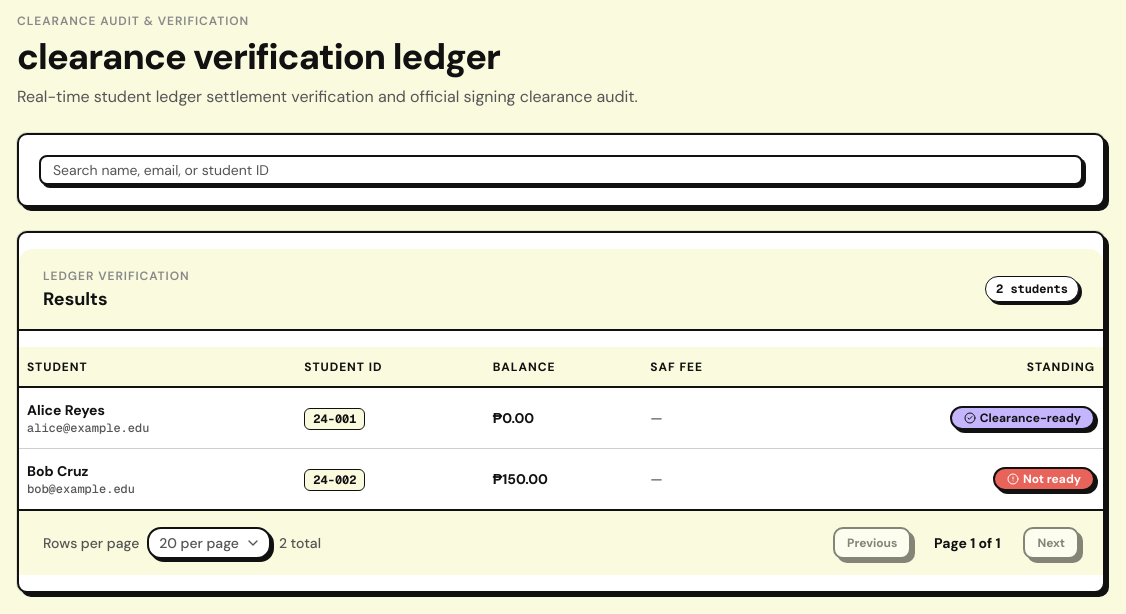
ClearanceView Ledger Verification (Issue #206) › filters students in real-time when typing in search input
Expected: the text "Alice Reyes" is shown, top-left (27, 401), bottom-right (105, 419)
Expected: the text "Bob Cruz" is shown, top-left (27, 462), bottom-right (88, 480)
Type "Alice" into the field labelled "Search name, email, or student ID".
click(561, 170); type("Alice")  # box top-left (39, 155), bottom-right (1083, 185)
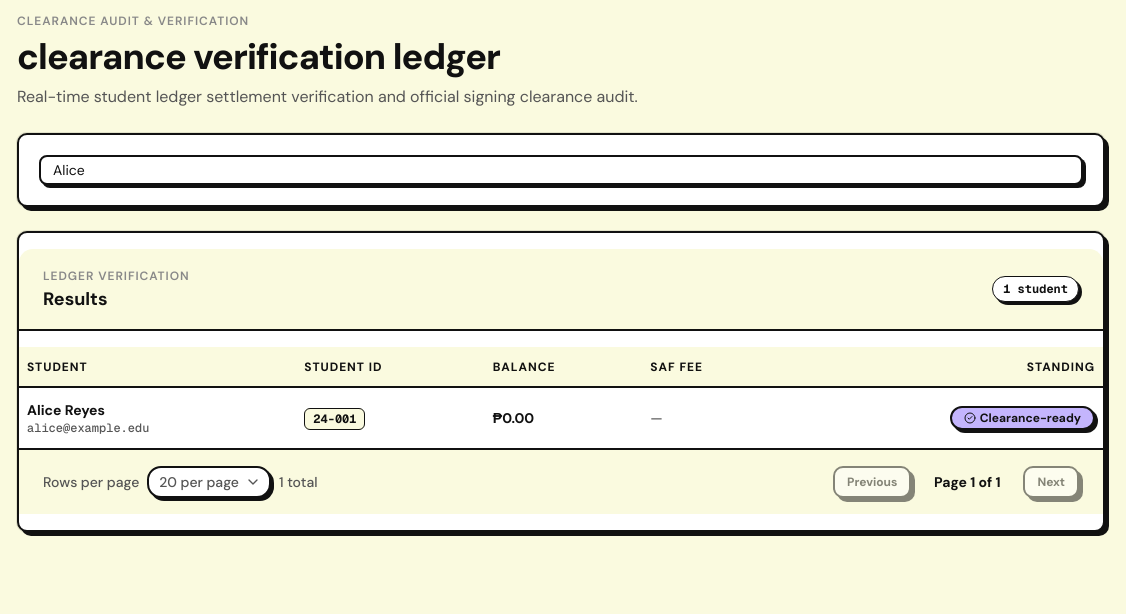
Expected: the text "Alice Reyes" is shown, top-left (27, 401), bottom-right (105, 419)
Result: the text "Bob Cruz" is gone
Replace the text in the field named "Search name, email, or student ID" with "24-002" at (561, 170), box top-left (39, 155), bottom-right (1083, 185)
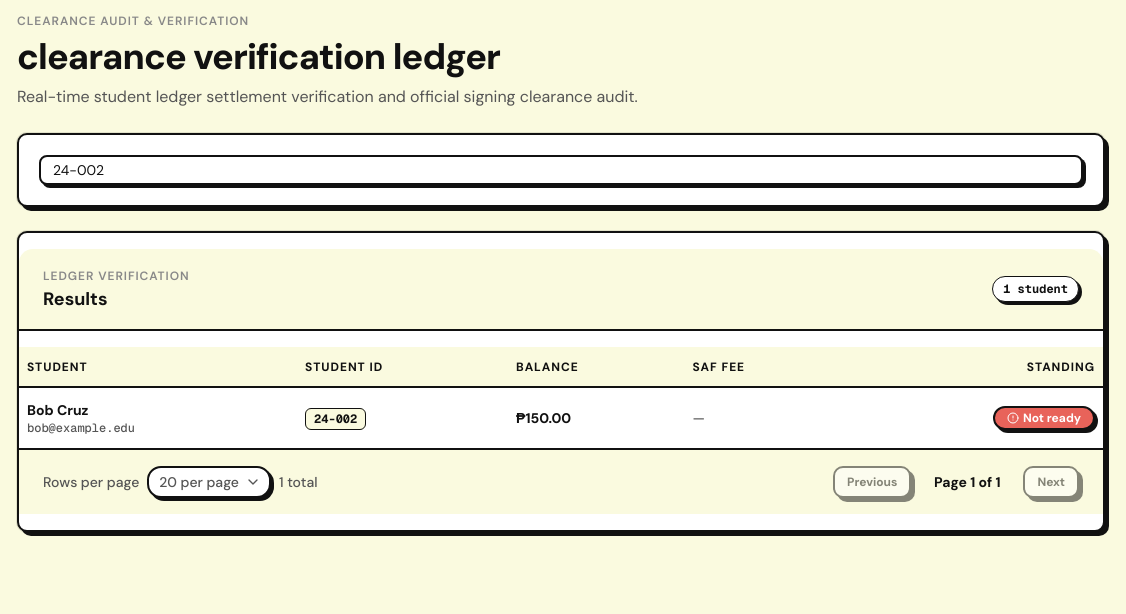
Result: the text "Alice Reyes" is gone
Result: the text "Bob Cruz" is shown at top-left (27, 401), bottom-right (88, 419)
Replace the text in the field named "Search name, email, or student ID" with "nomatch" at (561, 170), box top-left (39, 155), bottom-right (1083, 185)
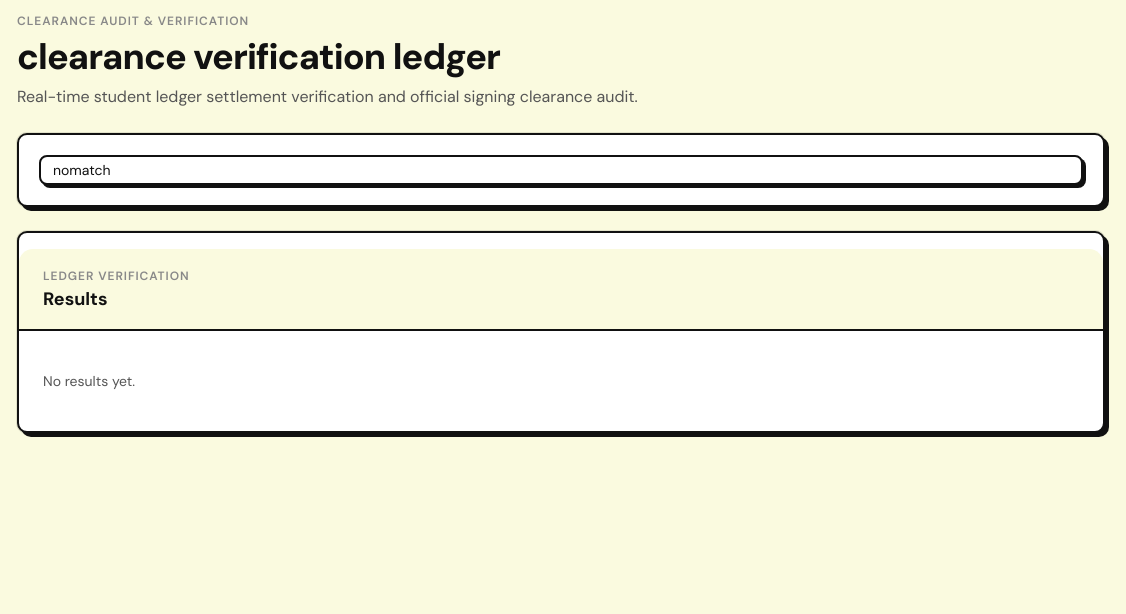
Result: the text "No results yet." is shown at top-left (43, 372), bottom-right (135, 390)
